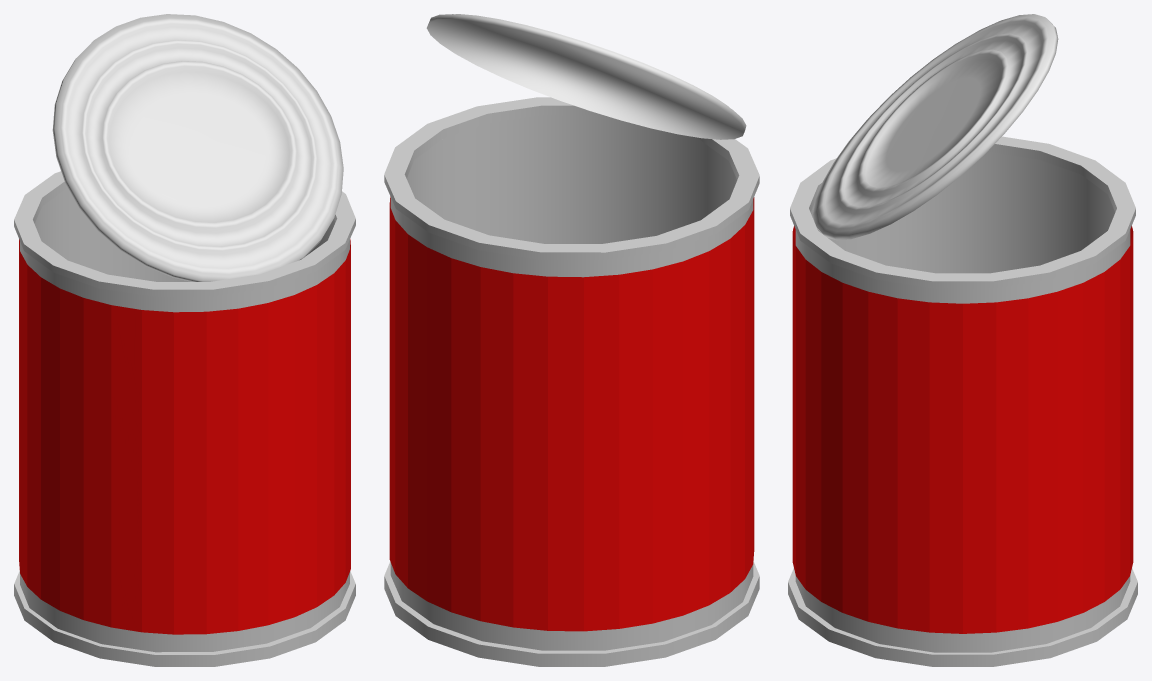
Rendered from Dose.fbx.
3 views of the same model, side by side, from view 1: azimuth 30°, elevation 25°; view 2: azimuth 150°, elevation 25°; view 3: azimuth 270°, elevation 25° (orthographic). The views are drawn at different scales.
Visible parts, largest first — view 1: Cylinder.001, Cylinder.003, Cylinder; view 2: Cylinder.001, Cylinder, Cylinder.003; view 3: Cylinder.001, Cylinder, Cylinder.003.
Boxes of the visible parts, left/top/right/bottom form: Cylinder.001: left=19, top=239, right=350, bottom=634; Cylinder.003: left=52, top=14, right=343, bottom=281; Cylinder: left=14, top=171, right=355, bottom=666; Cylinder.001: left=389, top=196, right=754, bottom=631; Cylinder: left=384, top=97, right=759, bottom=666; Cylinder.003: left=426, top=14, right=746, bottom=139; Cylinder.001: left=792, top=226, right=1133, bottom=633; Cylinder: left=788, top=136, right=1137, bottom=666; Cylinder.003: left=813, top=14, right=1058, bottom=240.
Size of the model in its own units: 41.4 by 73.73 by 41.86.
